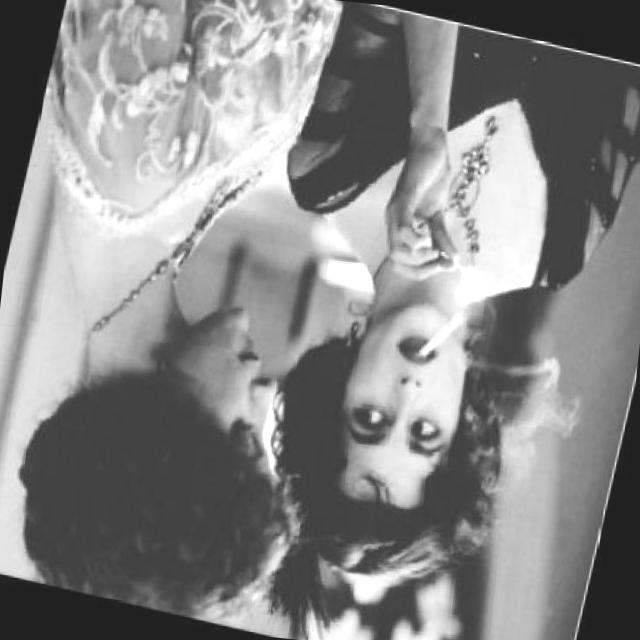cigarette: (412, 303, 466, 368)
